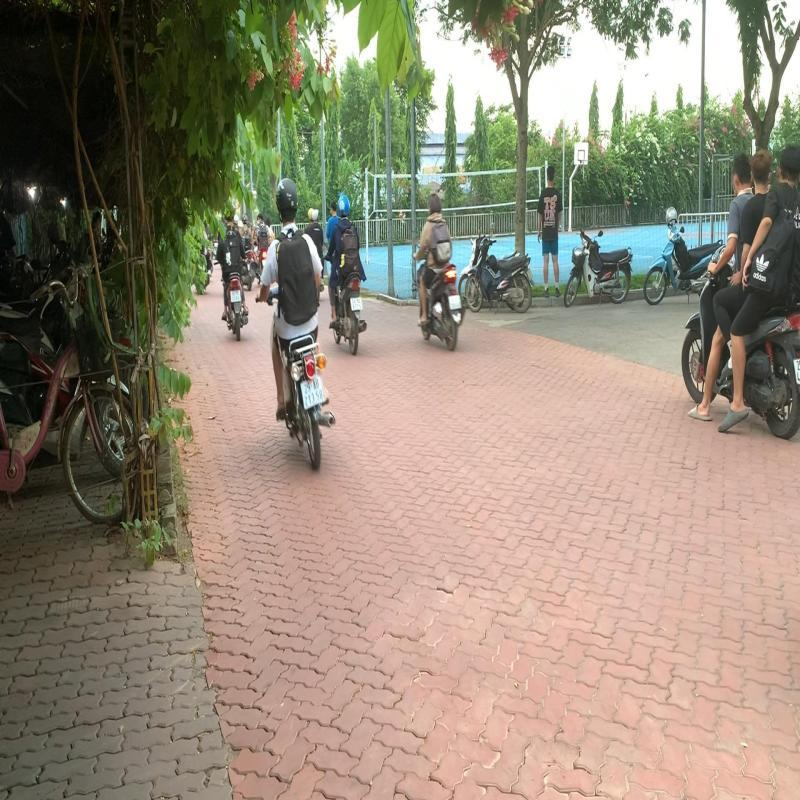nohelmet: (776, 139, 800, 188), (730, 150, 754, 190), (752, 146, 773, 185)
